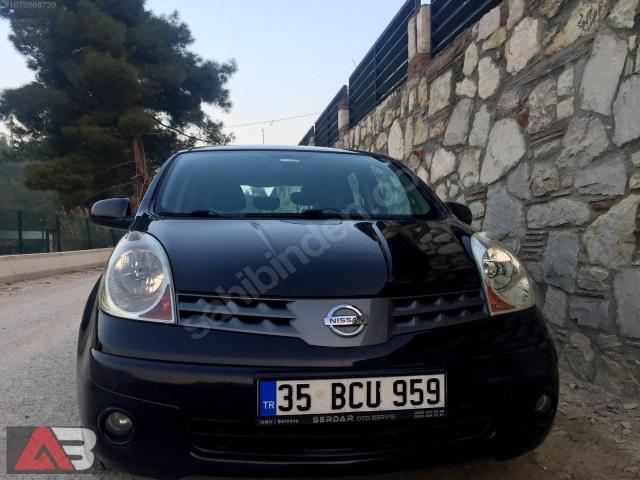plaka: (258, 373, 445, 423)
